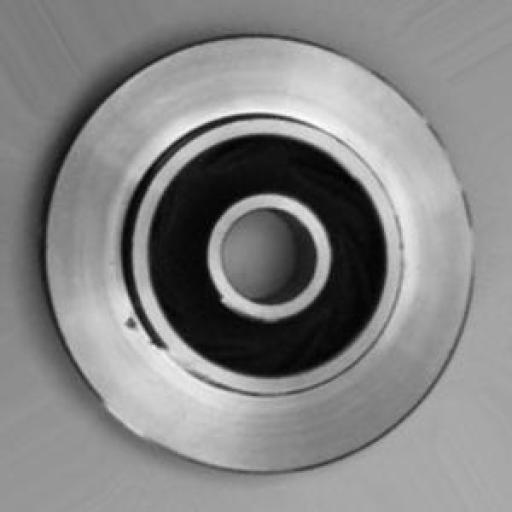defect: (104, 288, 162, 362)
